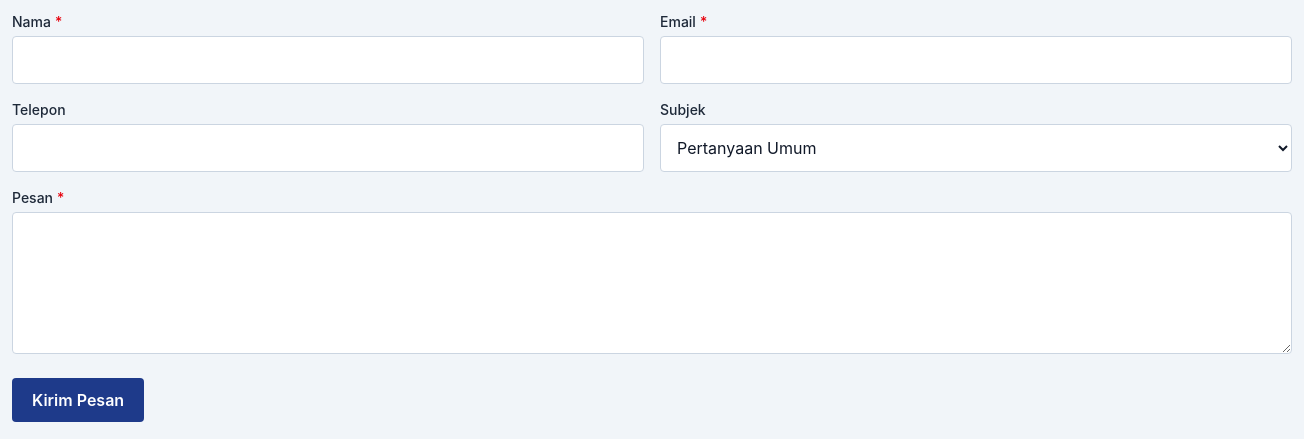
ContactForm component › submits successfully and shows success state
Type "Dozer" into the field labelled "Nama*". click: (328, 60)
box: [12,36,644,84]
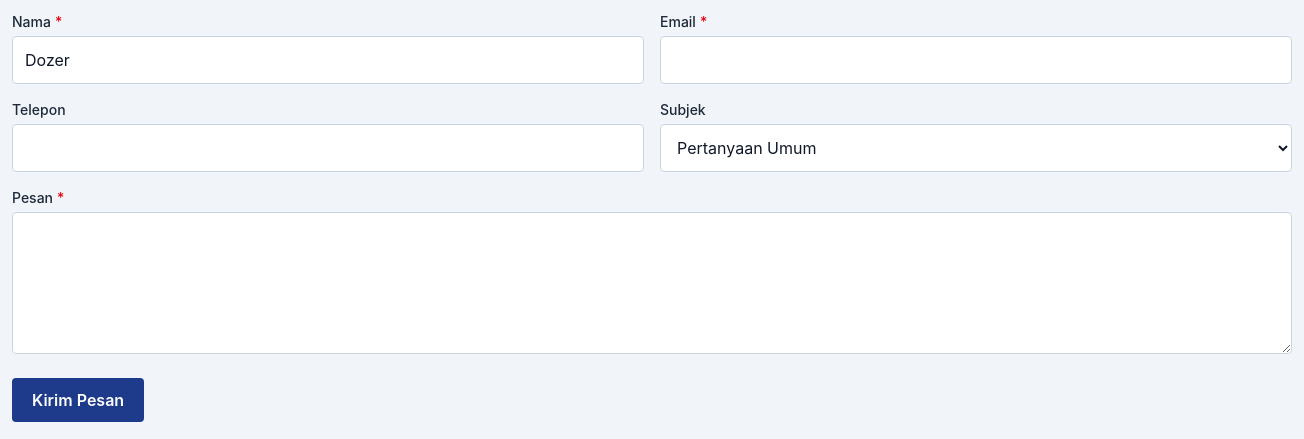
Type "dozer@example.com" into the field labelled "Email*". click: (976, 60)
box: [660,36,1292,84]
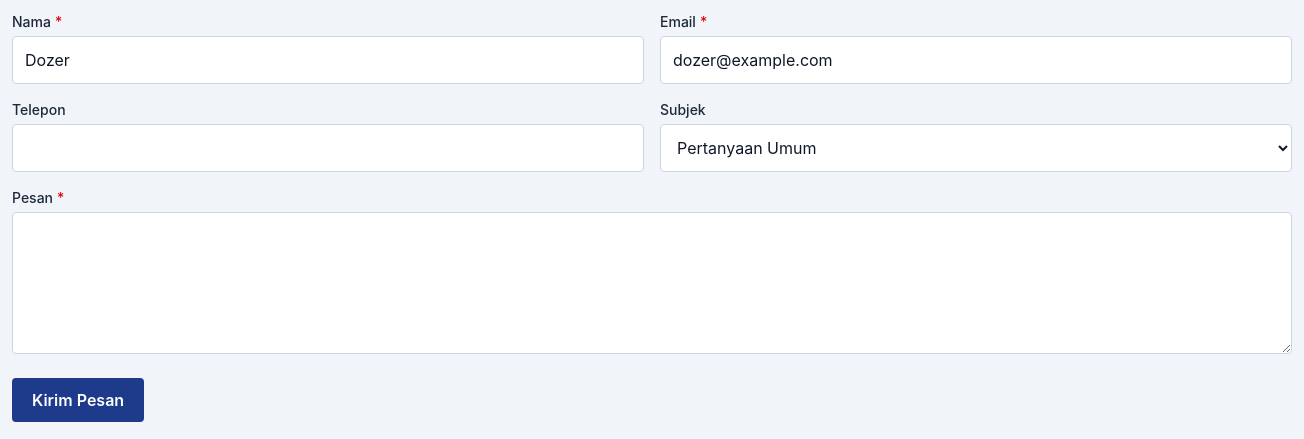
Type "Ini pesan panjang untuk validasi." into the text box labelled "Pesan*". click: (652, 283)
box: [12,212,1292,354]
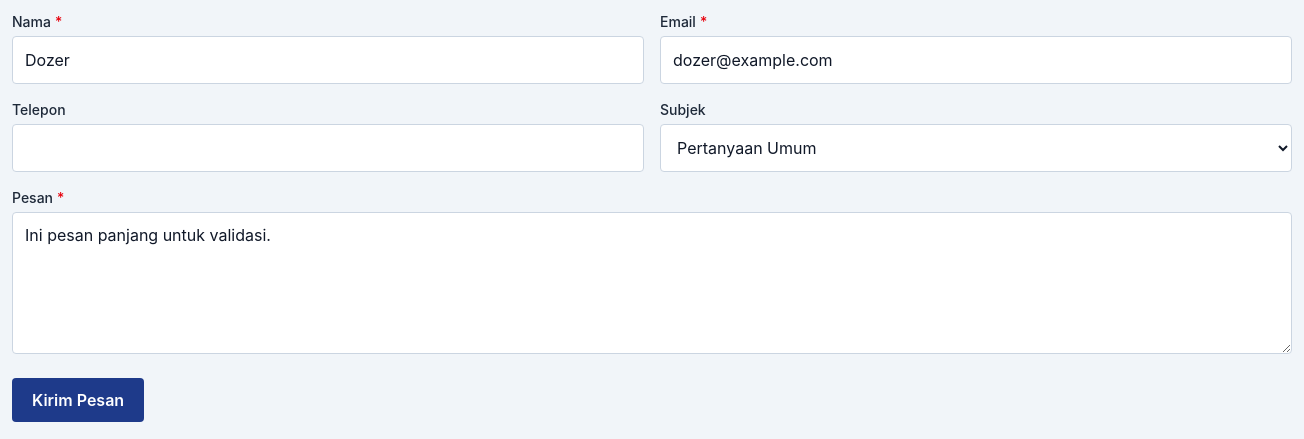
Click the button "Kirim Pesan". click: (78, 400)
box: [12,378,144,422]
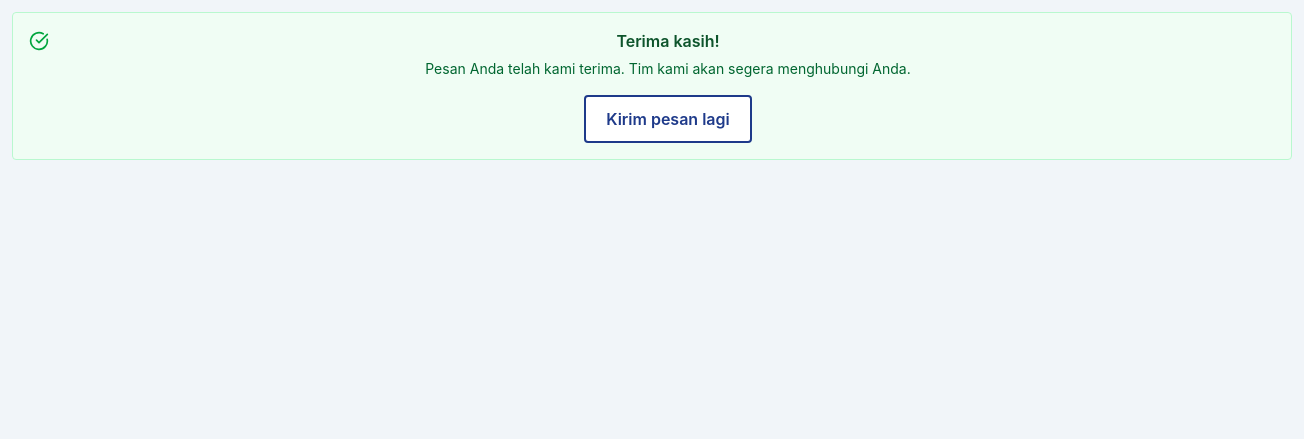
Expected: the heading "Terima kasih!" is shown, [616,31,720,51]
